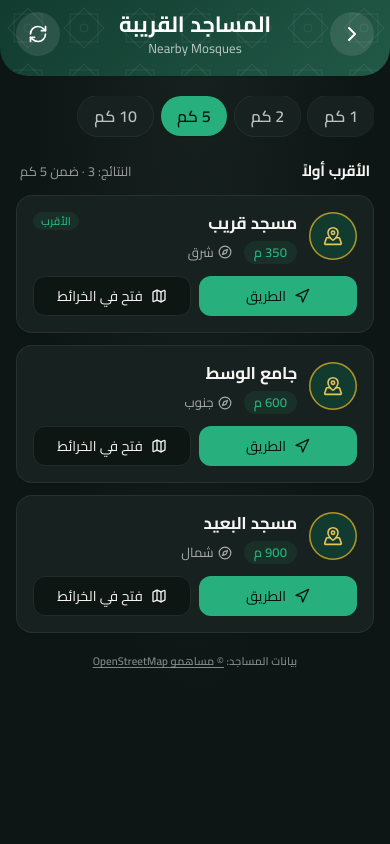
it: Nearby Mosques — results and radius › a smaller radius is served from the 5 km search; a wider one sends one request for the last choice
Click the button "1 كم".
click(341, 116)  # box [308,96,374,136]
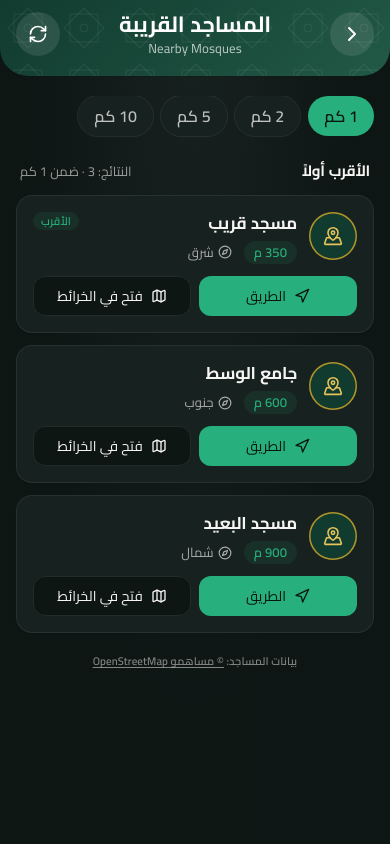
Click the button "2 كم".
click(268, 116)  # box [235,96,300,136]
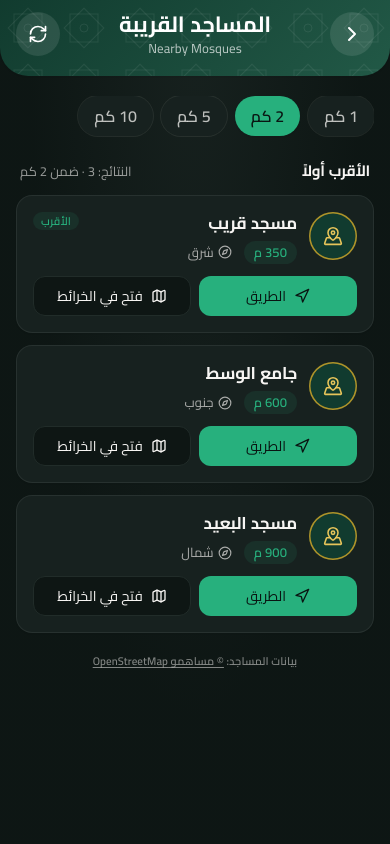
Expected: the text with test id "mosques-count" shows "2 كم", [20,159,47,183]
Click the button "5 كم".
click(194, 116)  # box [161,96,227,136]
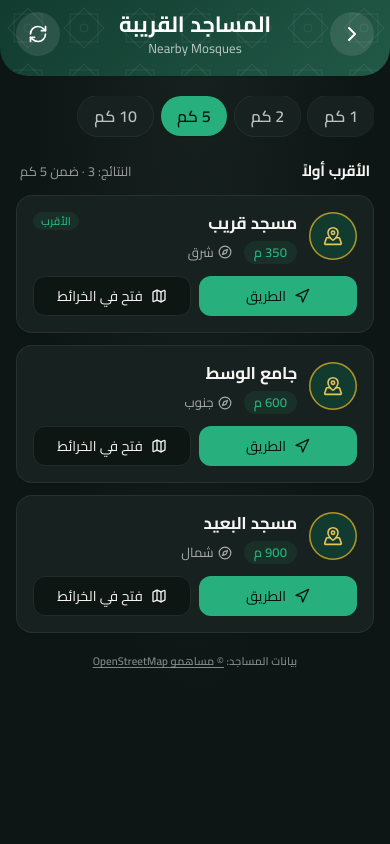
Click the button "10 كم".
click(116, 116)  # box [78,96,153,136]
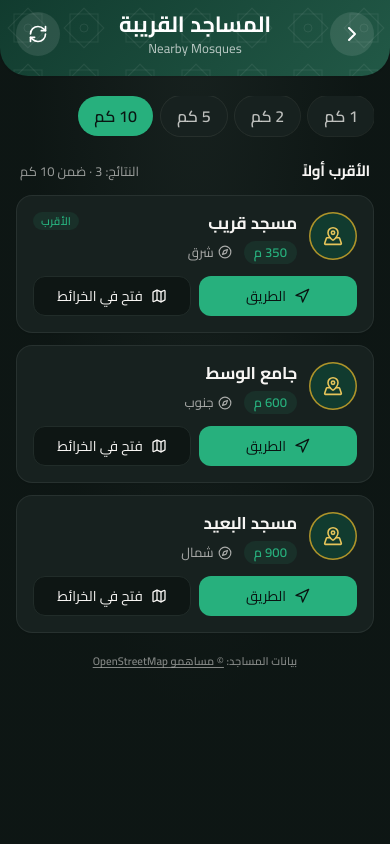
Expected: the text with test id "mosques-count" shows "10 كم", [20,159,54,183]
